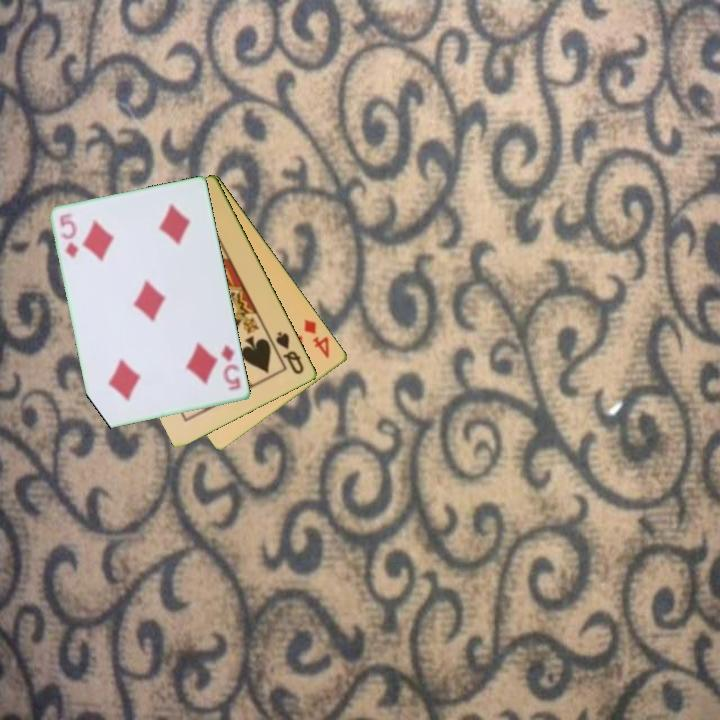4d: (301, 315, 333, 361)
5d: (217, 342, 244, 393), (56, 210, 82, 261)
Qs: (273, 328, 307, 378)
